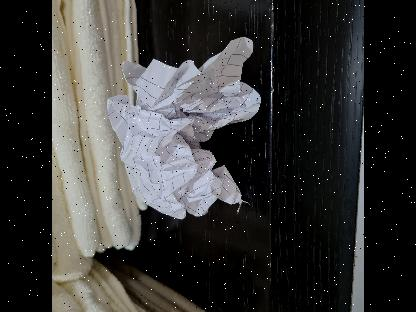Others: (108, 35, 260, 215)
